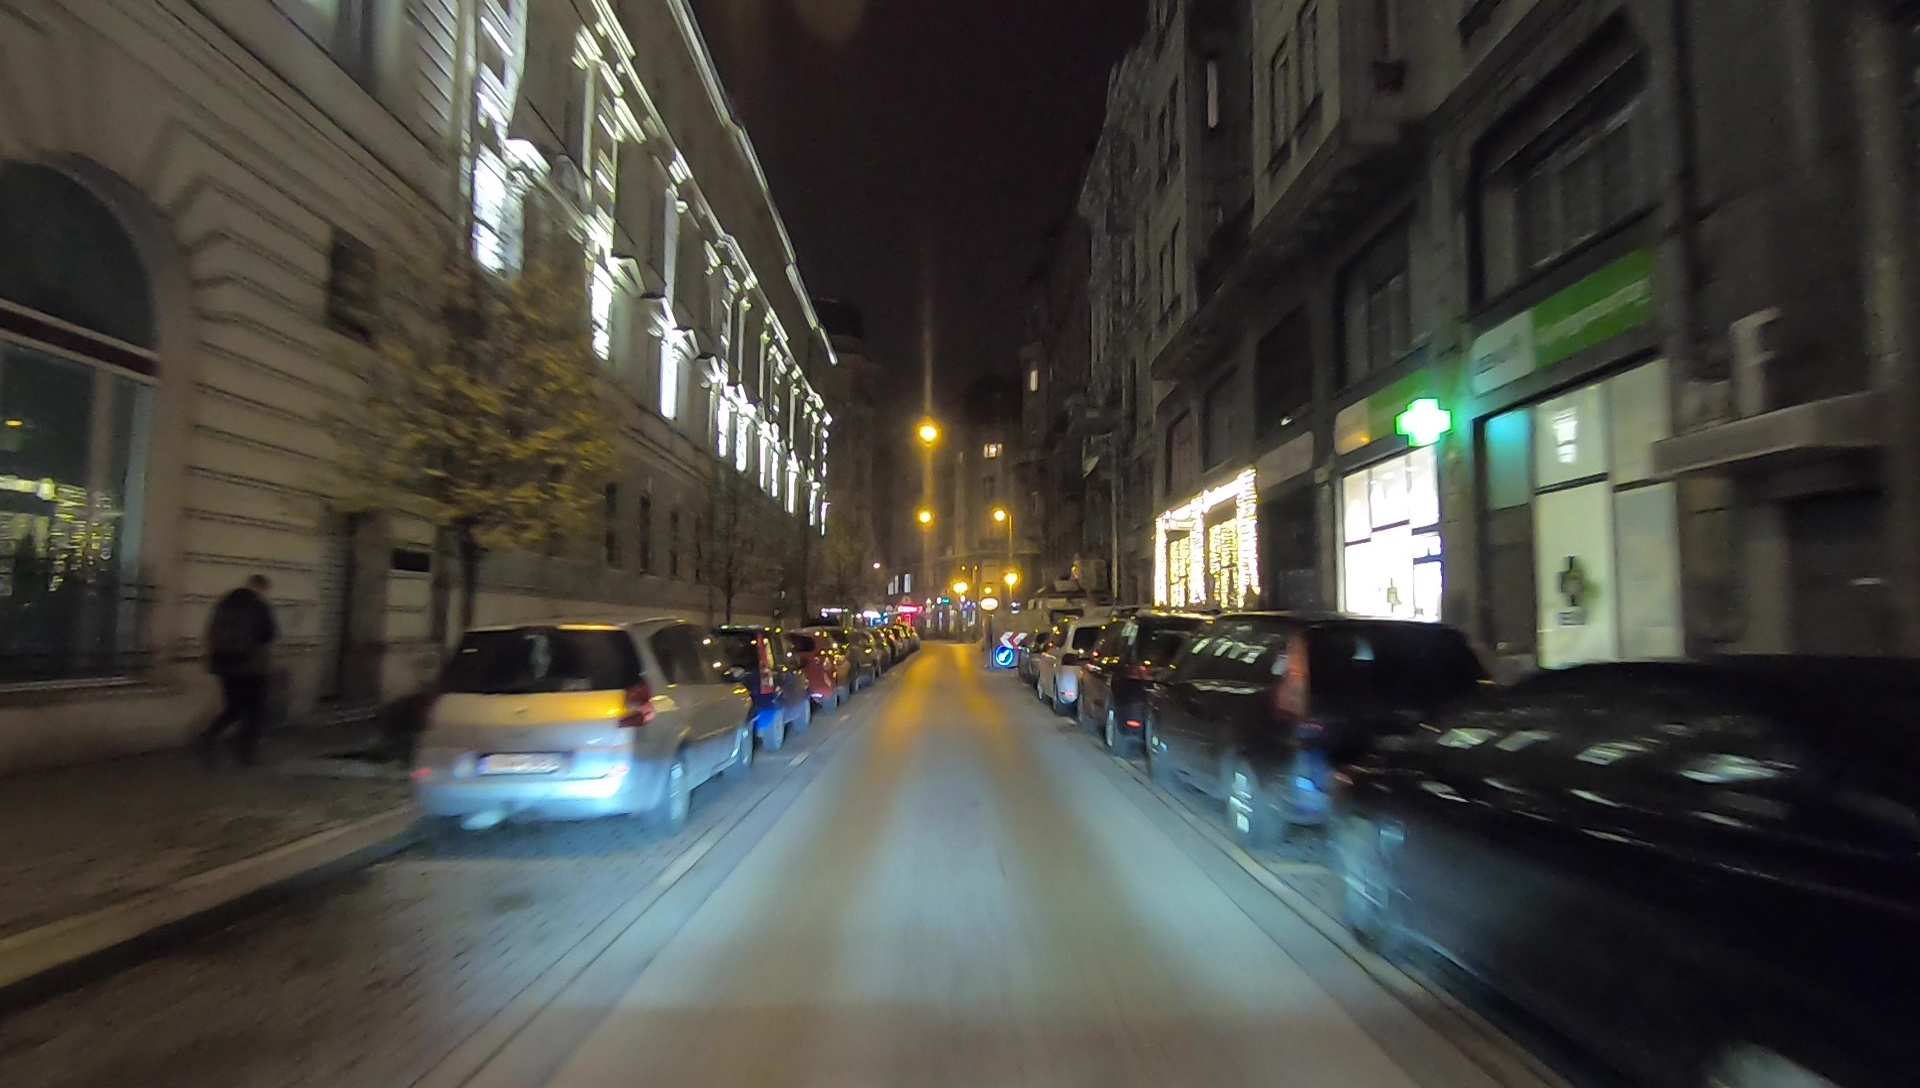person: (202, 573, 271, 765)
